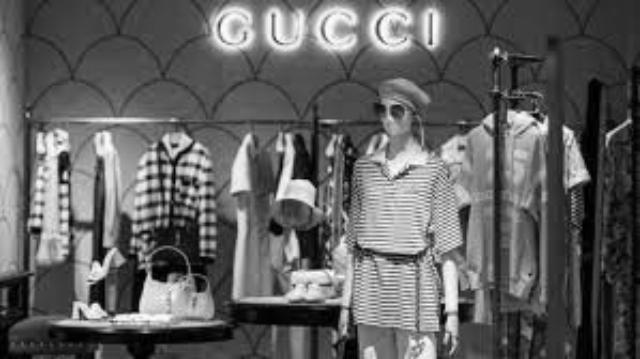Gucci: (208, 0, 448, 52)
